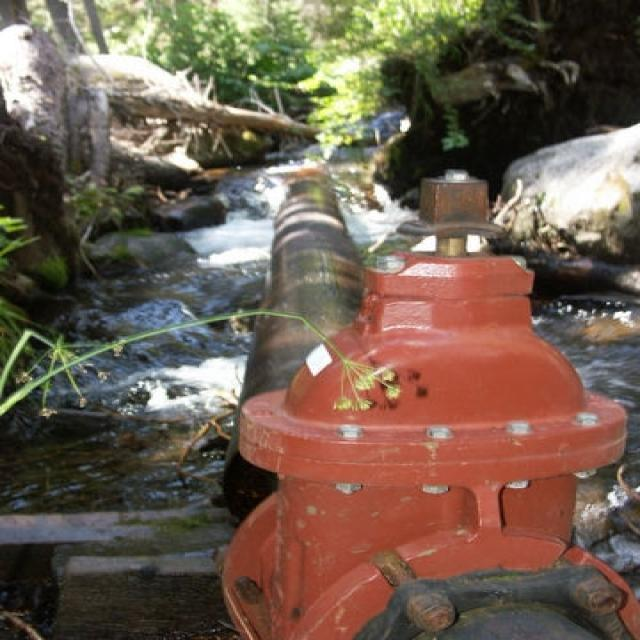fire_hydrant: (216, 166, 638, 640)
